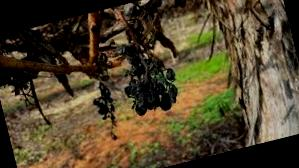Grape Rotten: (112, 33, 183, 119)
